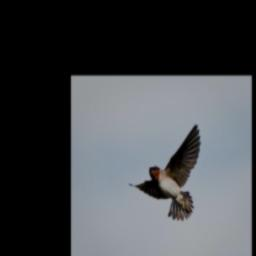Swallow: (128, 122, 202, 223)
